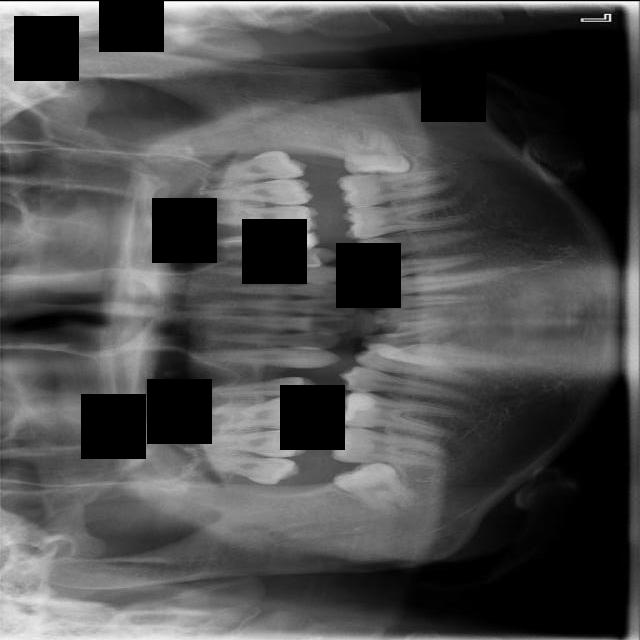3M ESPE Implant: (181, 448, 300, 486)
52: (333, 384, 389, 434), (282, 230, 320, 251)
73: (213, 233, 284, 246), (532, 58, 557, 67)
BioHorizons Implant: (193, 176, 314, 207)
BioLife Implant: (194, 148, 307, 185)
Biomet 3i Implant: (339, 123, 411, 177)
Blue Sky Bio Implant: (335, 166, 459, 208)
Caries: (181, 427, 311, 460)
Implant: (328, 423, 451, 472)
Keystone Dental Implant: (331, 441, 428, 529)
